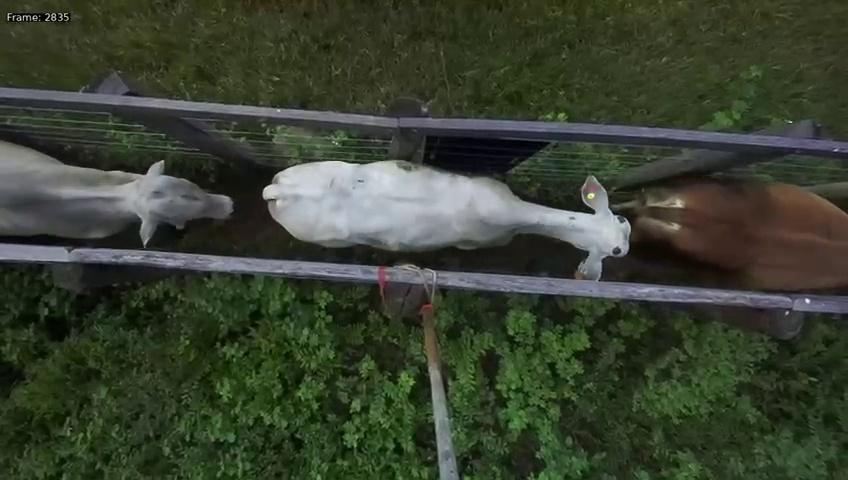cattle: (254, 121, 634, 280)
